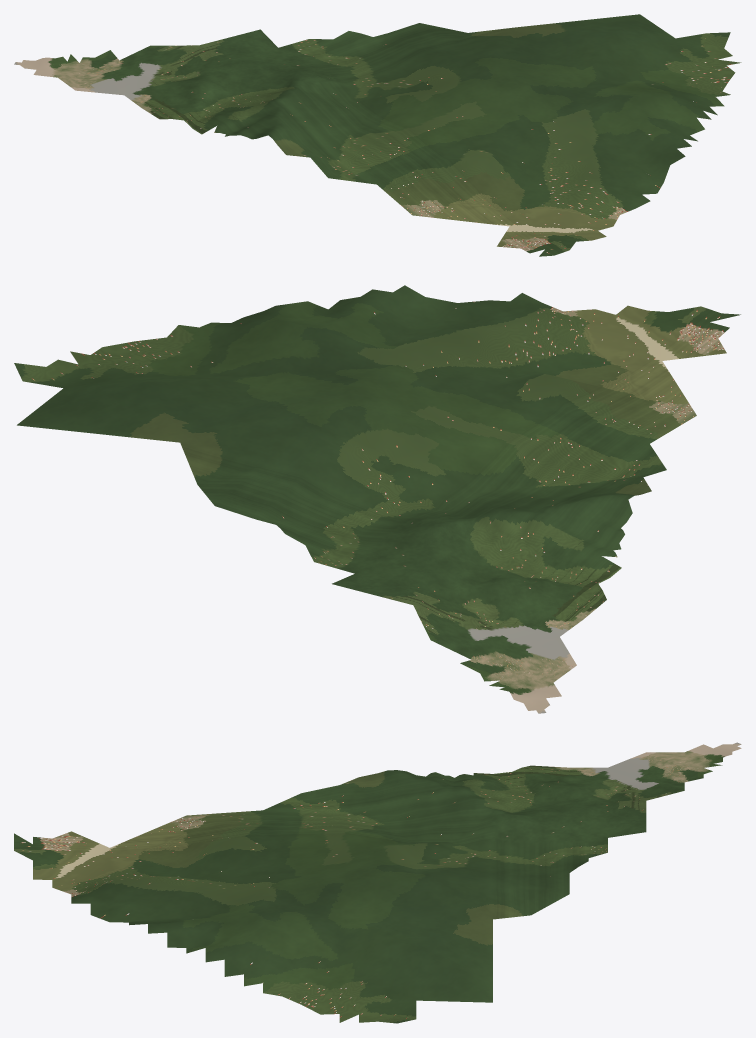
The model's file is SM_Fondale_Colline_N_LOD2.fbx.
3 views of the same model, one above another, from view 1: azimuth 30°, elevation 25°; view 2: azimuth 150°, elevation 25°; view 3: azimuth 270°, elevation 25° (orthographic). The views are drawn at different scales.
Parts seen in each view (by area): view 1: SM_Fondale_Colline_N_LOD2; view 2: SM_Fondale_Colline_N_LOD2; view 3: SM_Fondale_Colline_N_LOD2.
Part boxes in pixels (x1,y1,x2,y2): SM_Fondale_Colline_N_LOD2: [14, 14, 741, 256]; SM_Fondale_Colline_N_LOD2: [14, 285, 740, 713]; SM_Fondale_Colline_N_LOD2: [14, 742, 741, 1023].
Size of the model in its own units: 870000 by 912000 by 51974.
Materials: 1 (1 with a texture image).
